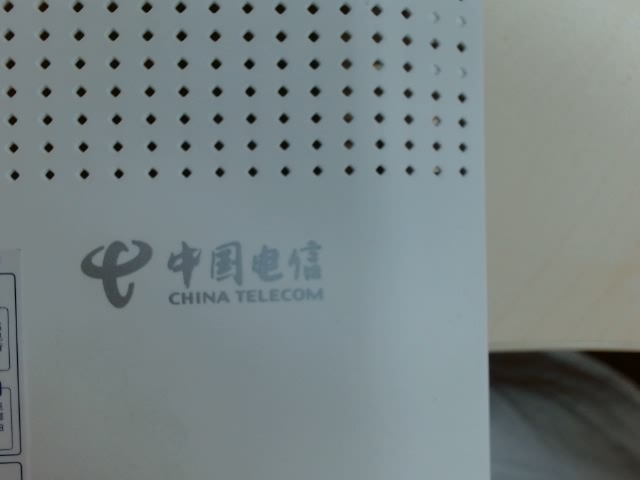ChinaTelecom1: (68, 220, 349, 317)
